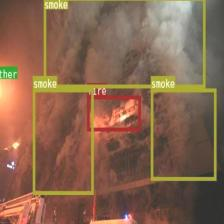fire: (87, 95, 140, 130)
smoke: (43, 0, 205, 88), (33, 88, 93, 194), (150, 88, 216, 180)
